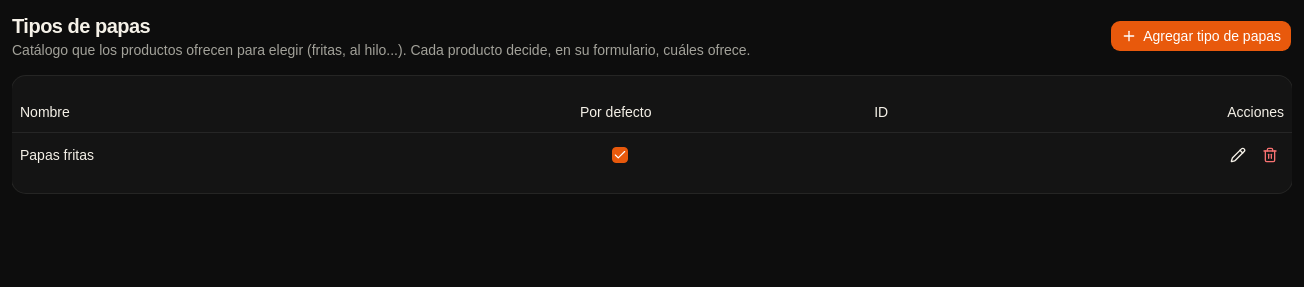
Test: FriesTypesSection - toggle "Por defecto" › si el PATCH falla muestra el error en un Alert
Click the checkbox named "Papas fritas por defecto" at (620, 154), box [612,146,628,162]
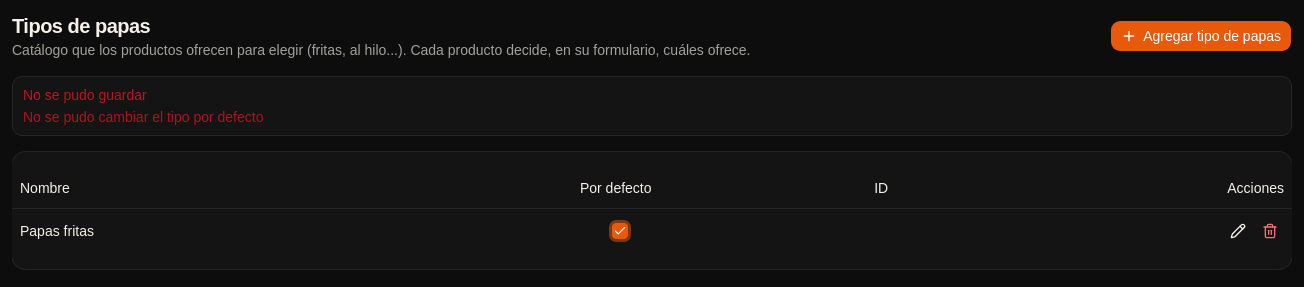
Check: the text "No se pudo guardar" is shown, box [23,87,147,103]
